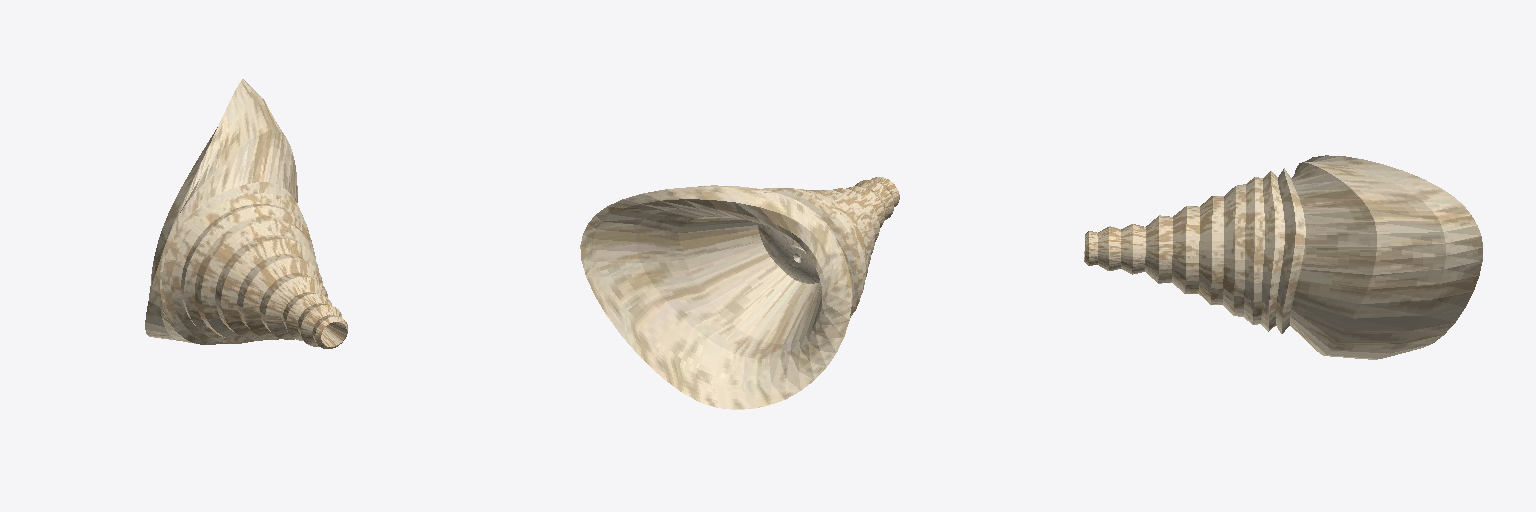
3 renders of one model, left to right at view 1: azimuth 30°, elevation 25°; view 2: azimuth 150°, elevation 25°; view 3: azimuth 270°, elevation 25°, orthographic.
Parts seen in each view (by area): view 1: pSphere1; view 2: pSphere1; view 3: pSphere1.
Boxes of the visible parts, x1,y1,x2,y2 form: pSphere1: [145, 79, 347, 348]; pSphere1: [580, 177, 899, 409]; pSphere1: [1084, 155, 1482, 359].
Bounding box in the file's own units: 2.51 × 2.62 × 4.68.
1 materials, 1 textured.